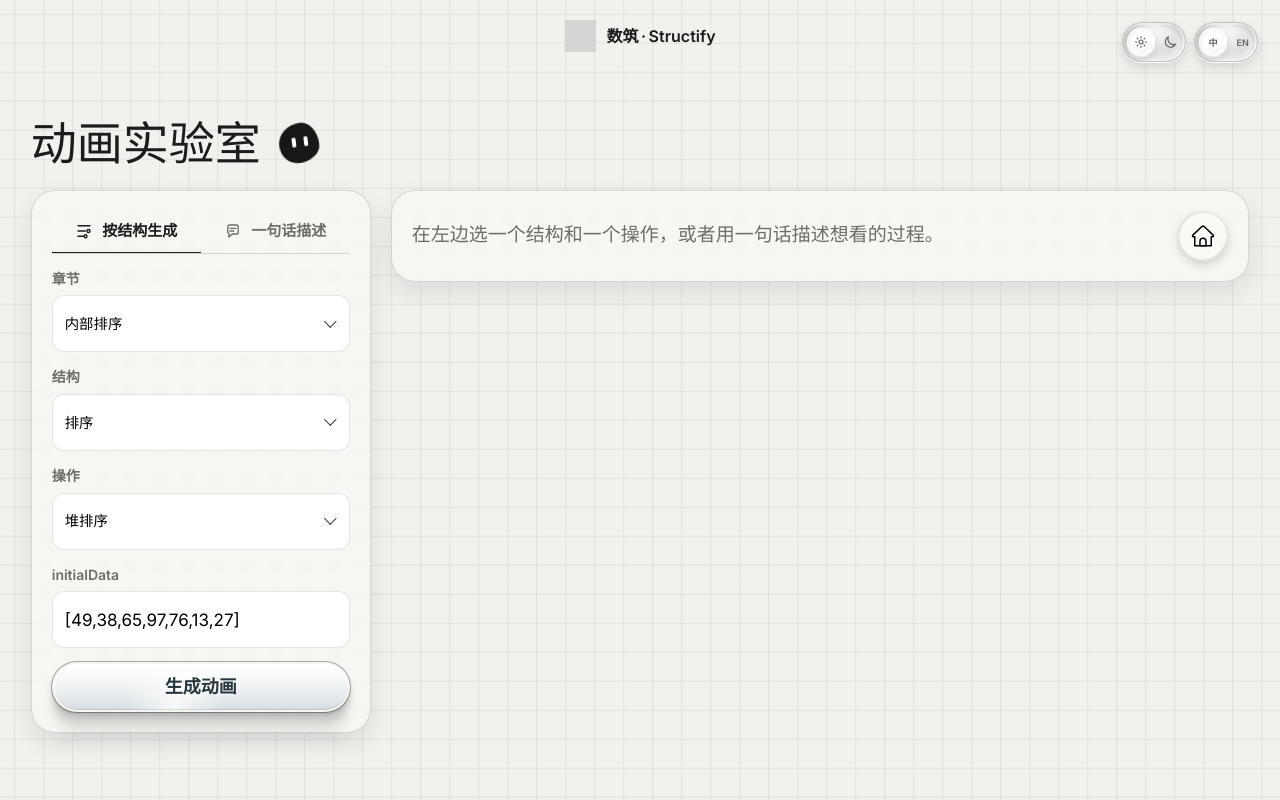
Test: animation lab › shows the engine's own refusal in the dialog when an argument is out of range
The image size is (1280, 800).
Click the button named "生成动画": (201, 687) [52, 662, 350, 712]
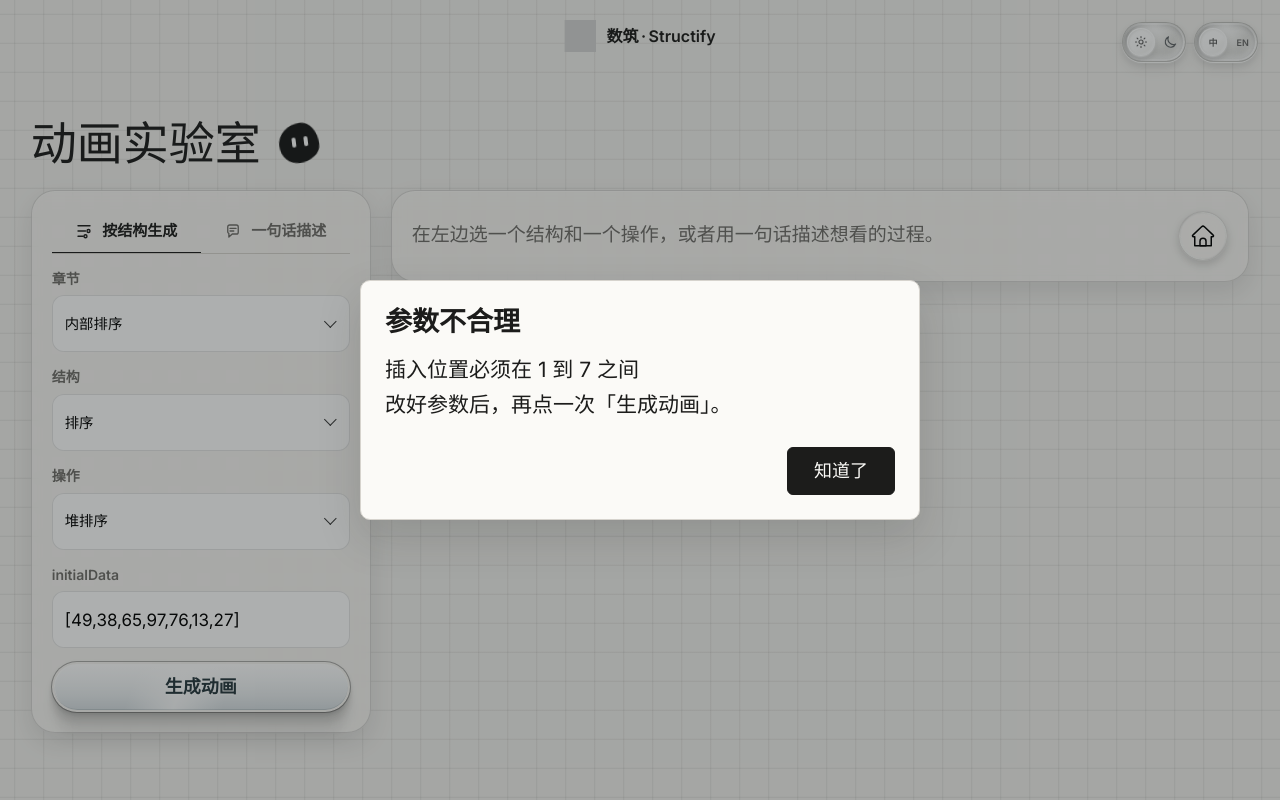
Result: the dialog shows "参数不合理" at [385, 306, 520, 338]
Result: the dialog shows "插入位置必须在 1 到 7 之间" at [385, 357, 732, 417]
